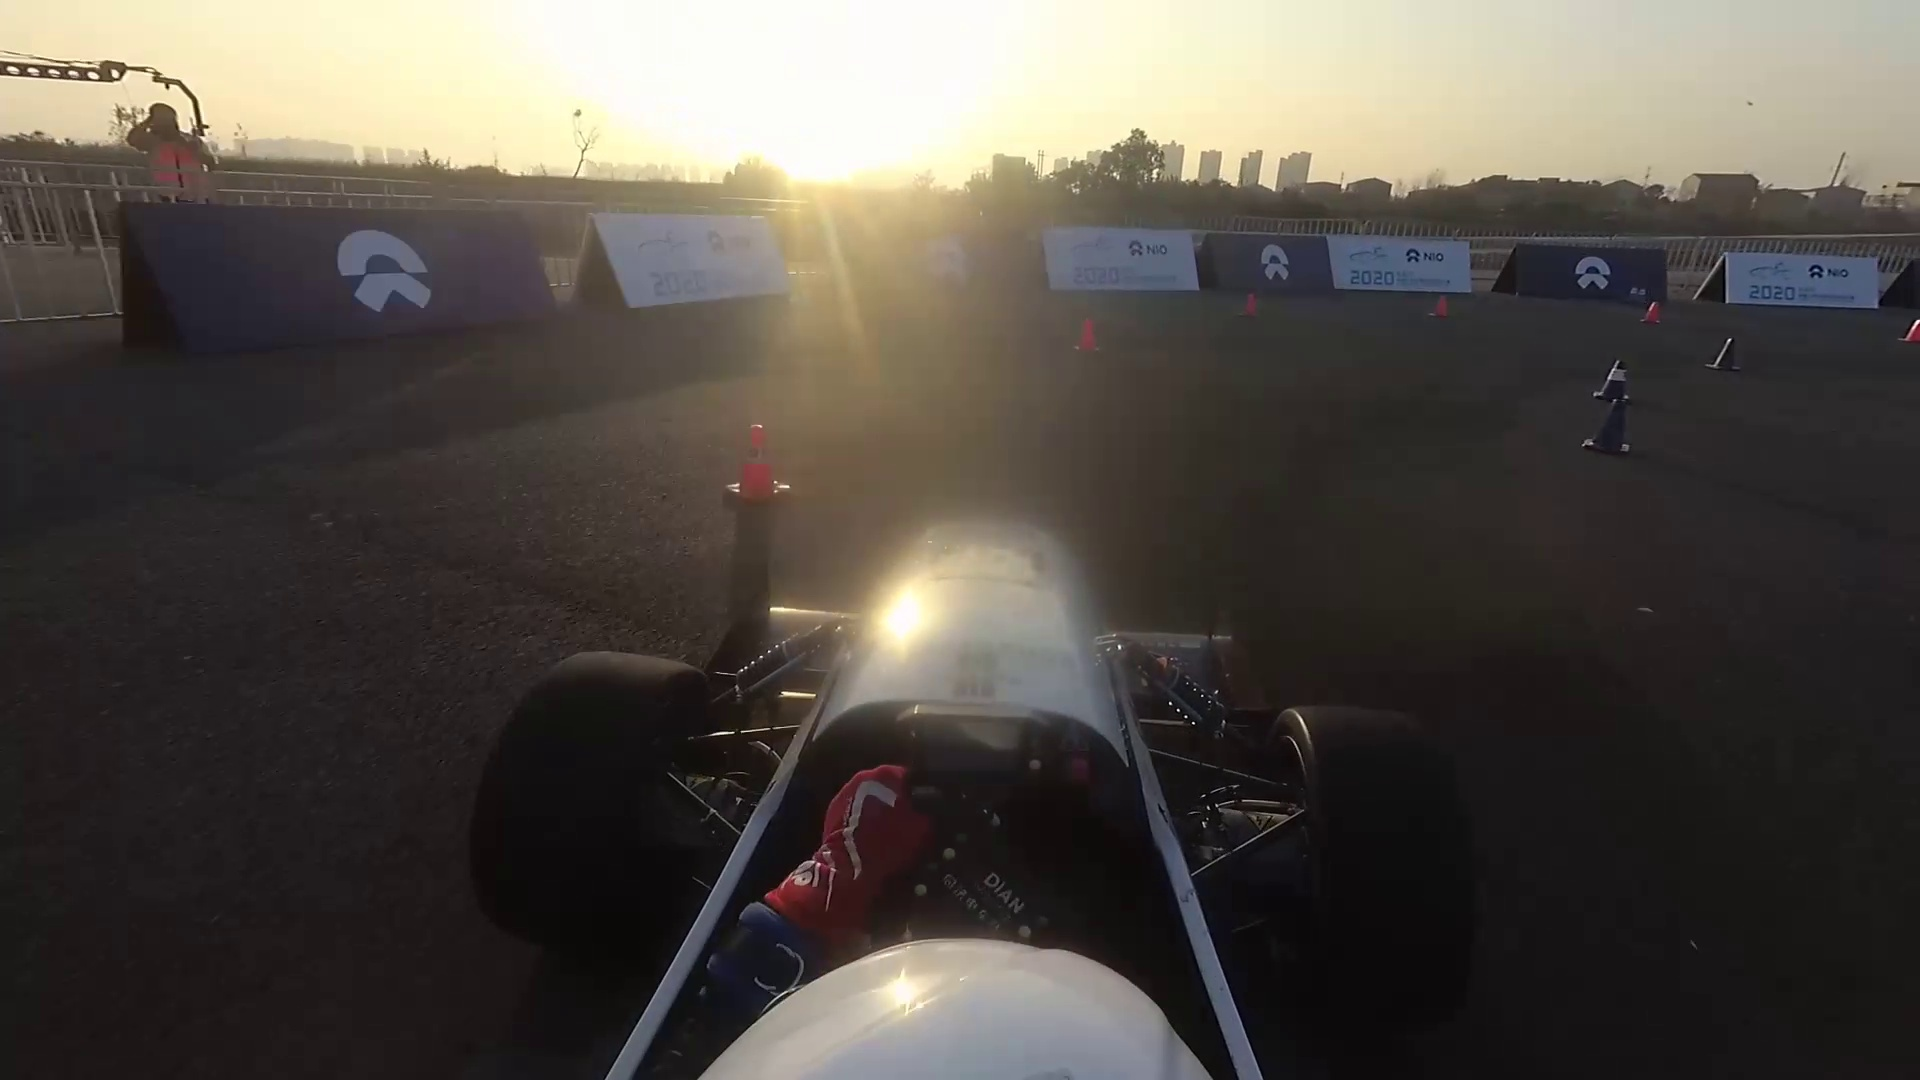blue_cone: (1582, 407, 1638, 456), (1702, 331, 1749, 378), (1601, 359, 1634, 401)
red_cone: (720, 422, 798, 505), (1638, 298, 1665, 327), (1073, 315, 1095, 349), (1429, 291, 1453, 320), (1241, 291, 1257, 316)
